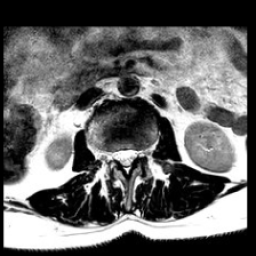CCS_normal: (122, 139, 129, 180)
LFS_normal: (137, 138, 144, 164)
LLS_normal: (129, 138, 137, 168)
RFS_normal: (105, 141, 113, 168)
RLS_normal: (113, 140, 122, 168)
